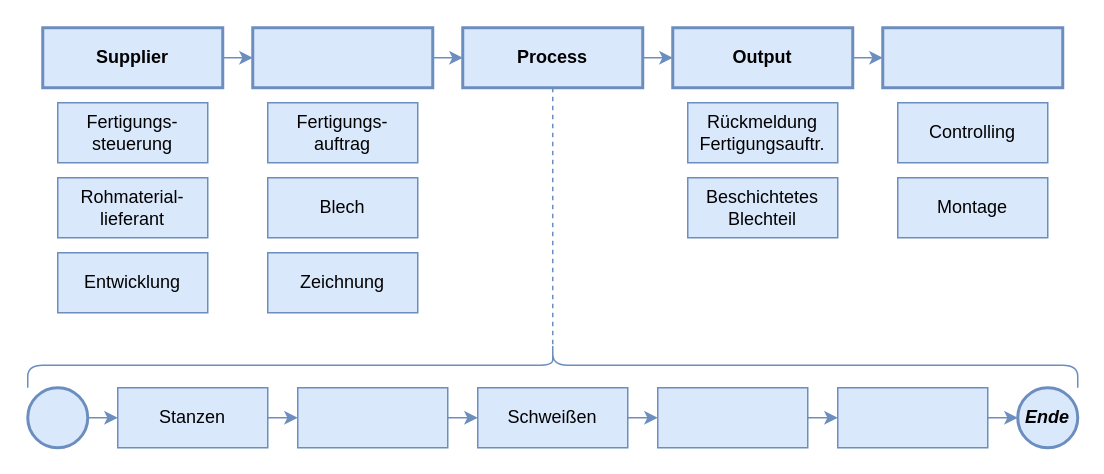
The diagram is 1104 pixels wide and 474 high, and some of its shapes have lost their labels. Each missing label, with the box of its shape:
Beschichten: (656, 386, 808, 448)
Biegen: (296, 386, 448, 448)
C onsumer: (880, 26, 1064, 88)
Fertigungsauftr. buchen: (836, 386, 988, 448)
I nput: (250, 26, 434, 88)
Start: (26, 386, 88, 448)
